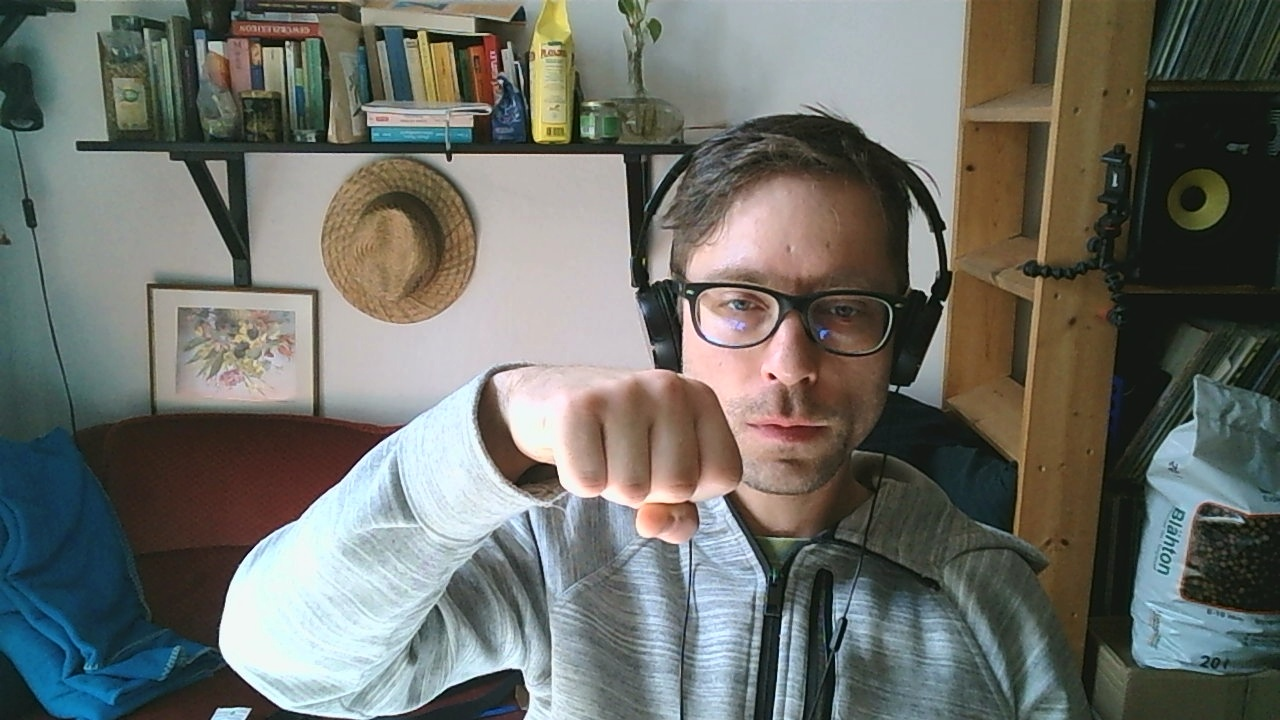yes: (507, 364, 743, 547)
